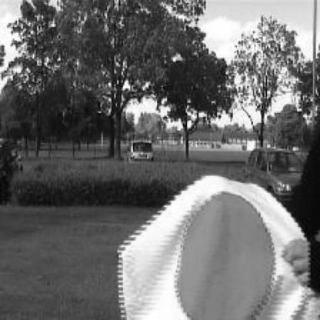other: (170, 189, 276, 317)
